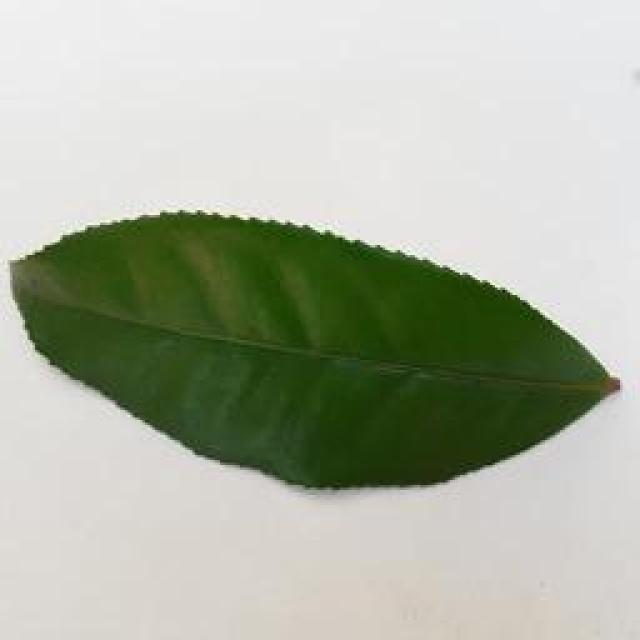Healthy: (0, 205, 630, 497)
